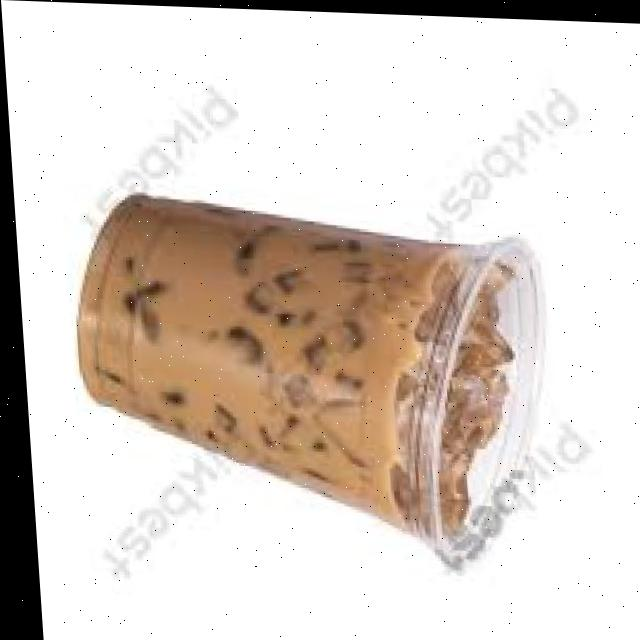cup: (73, 195, 540, 565)
